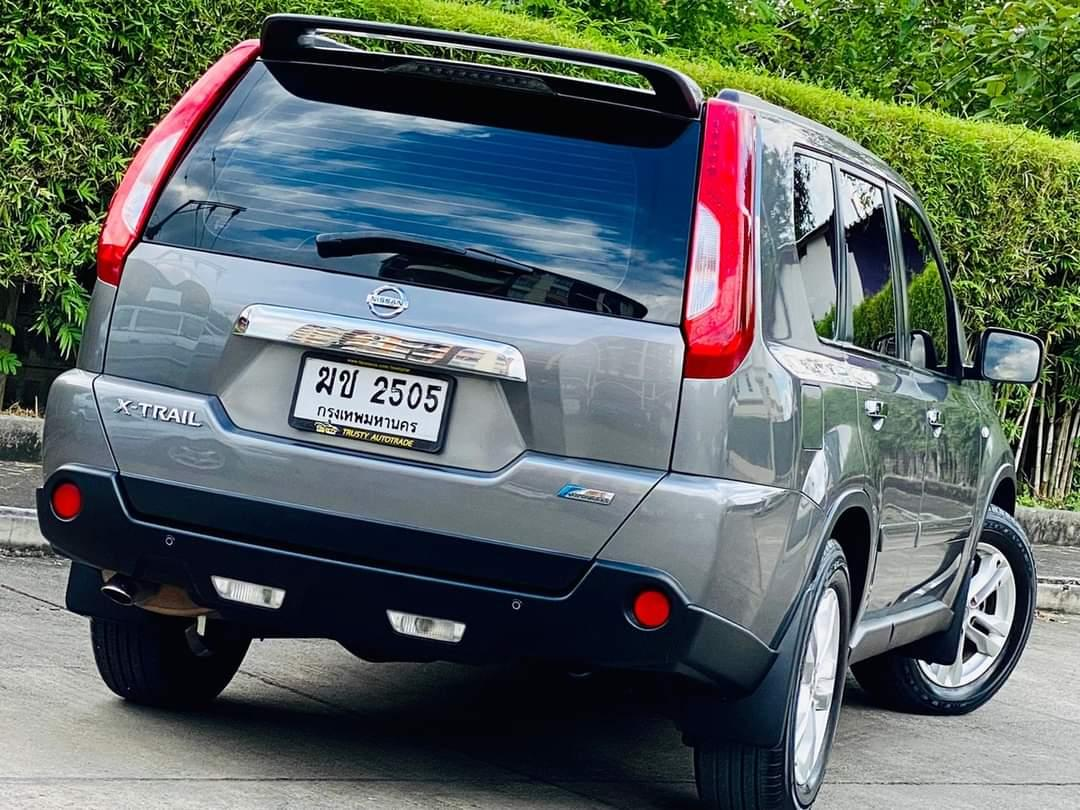license-plate: (287, 347, 459, 458)
